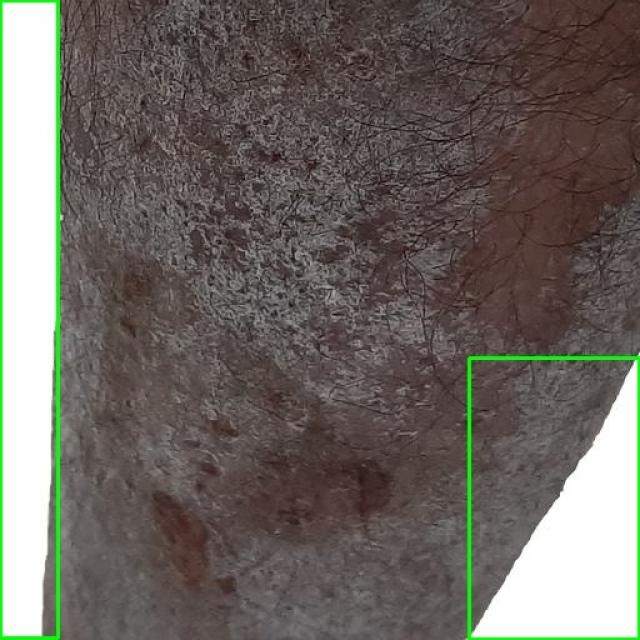Contact Dermatitis: (469, 358, 639, 639), (0, 0, 59, 639)
